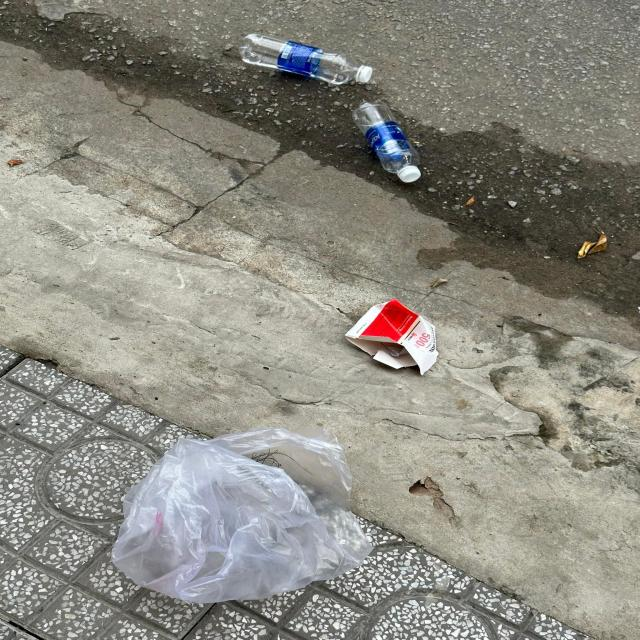bag: (112, 430, 376, 603)
bottle: (241, 34, 373, 84), (352, 100, 421, 183)
cardboard box: (346, 298, 440, 376)
